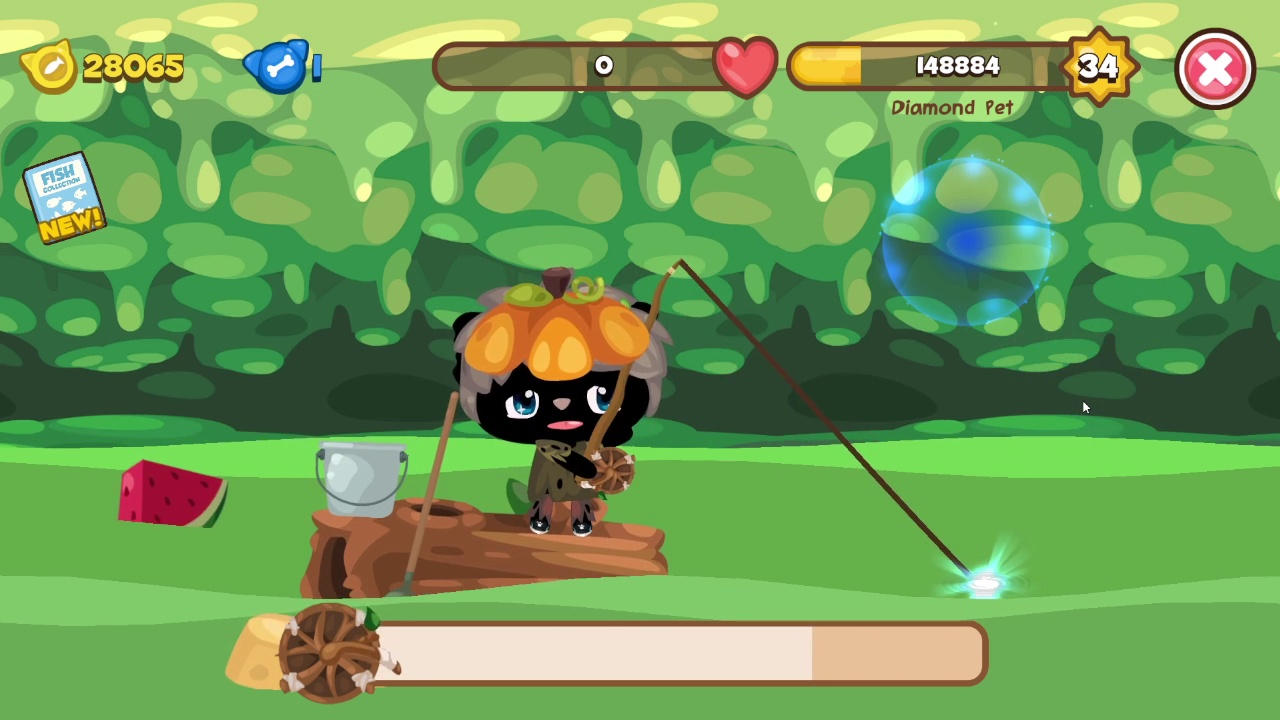point: (878, 155, 1054, 328)
